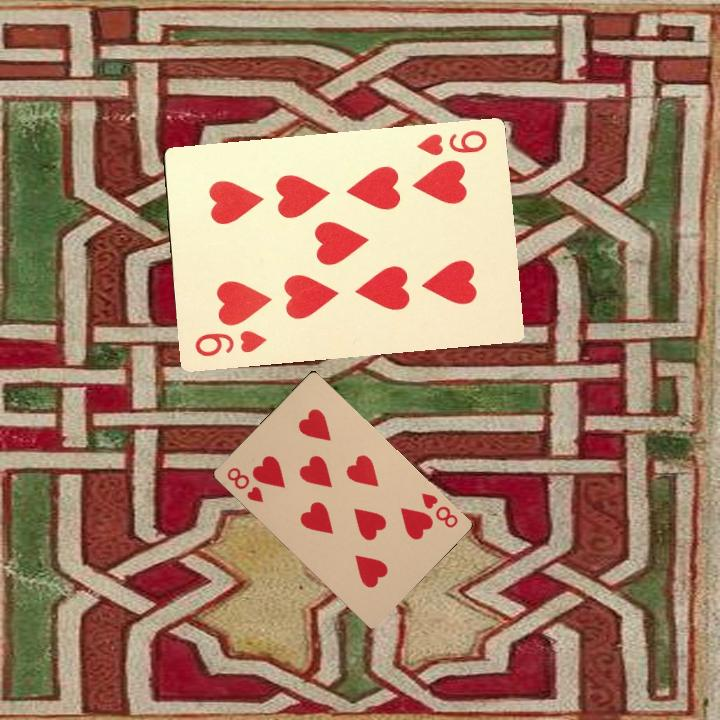8h: (223, 463, 266, 505), (418, 489, 461, 531)
9h: (191, 326, 269, 359), (413, 126, 490, 158)
